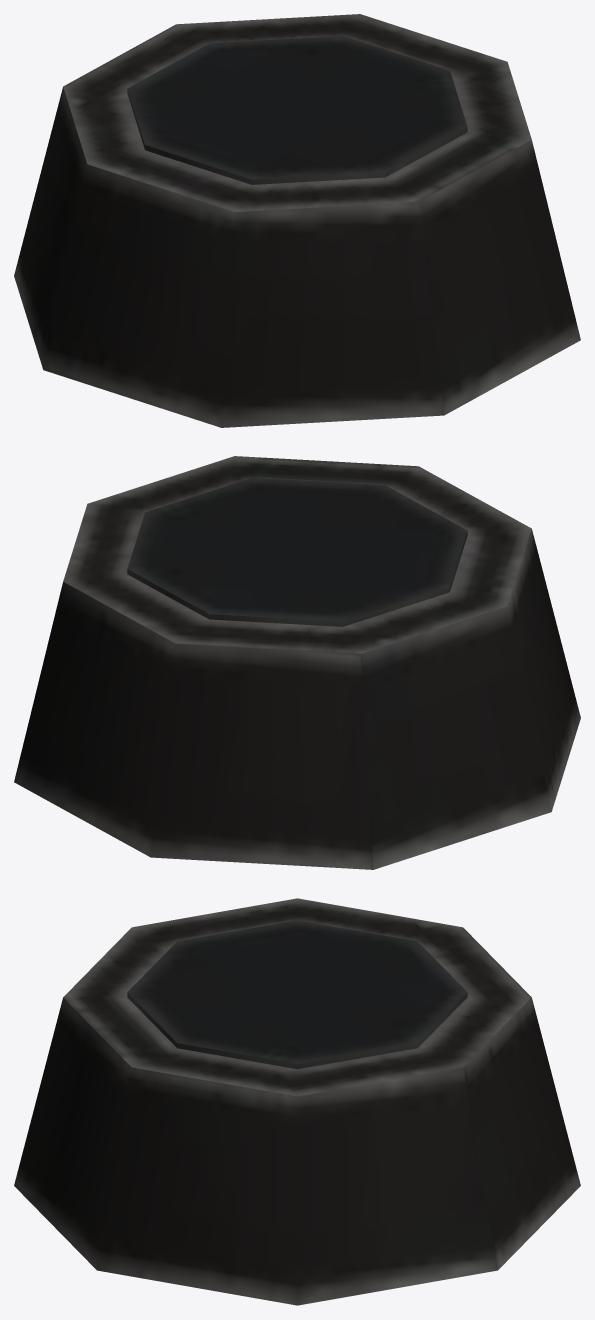
Rendered from charred_tree_3.glb.
3 views of the same model, one above another, from view 1: azimuth 30°, elevation 25°; view 2: azimuth 150°, elevation 25°; view 3: azimuth 270°, elevation 25° (orthographic). The views are drawn at different scales.
Visible parts, largest first — view 1: te_prop_charred_tree_3; view 2: te_prop_charred_tree_3; view 3: te_prop_charred_tree_3.
Part boxes in pixels (x1=…): te_prop_charred_tree_3: x1=14, y1=14, x2=580, y2=427; te_prop_charred_tree_3: x1=14, y1=456, x2=580, y2=869; te_prop_charred_tree_3: x1=14, y1=898, x2=580, y2=1305.
Bounding box in the file's own units: 0.15 × 0.0565 × 0.15.
1 material, 1 textured.
